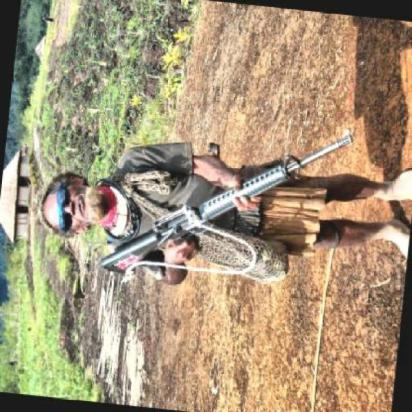Gun: (101, 132, 354, 280)
